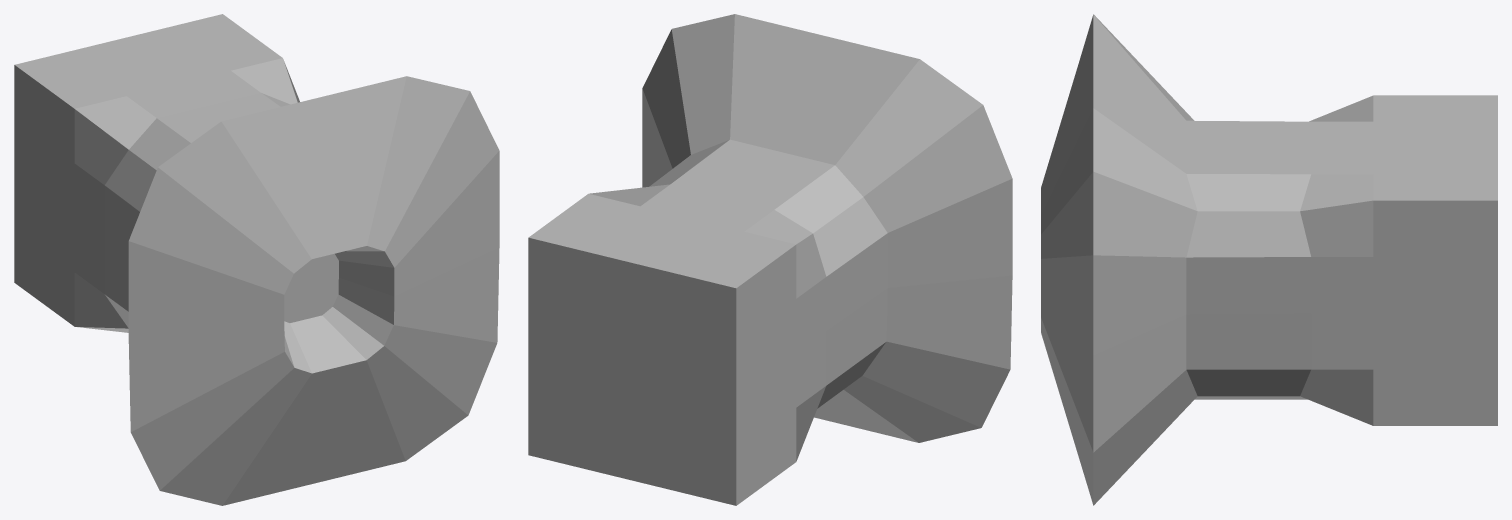
The model's file is LaserTurret.fbx.
3 renders of one model, left to right at view 1: azimuth 30°, elevation 25°; view 2: azimuth 150°, elevation 25°; view 3: azimuth 270°, elevation 25°, orthographic. The views are drawn at different scales.
Parts seen in each view (by area): view 1: pCube2; view 2: pCube2; view 3: pCube2.
Boxes of the visible parts, box(x1,y1,x2,y2) form: pCube2: box(14, 14, 499, 505); pCube2: box(528, 14, 1012, 505); pCube2: box(1041, 14, 1497, 505).
Size of the model in its own units: 0.3293 by 0.3266 by 0.3396.
Materials: 1 (1 with a texture image).
